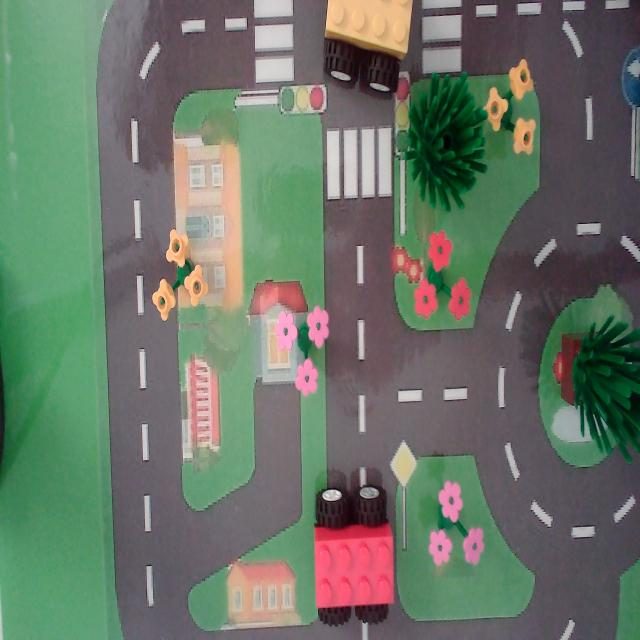Car: (301, 470, 413, 638), (313, 0, 418, 112)
Flower: (138, 218, 218, 343), (268, 292, 334, 412), (483, 46, 547, 164), (413, 223, 480, 335), (426, 464, 490, 574)
Tree: (396, 58, 498, 216), (557, 305, 640, 458)
